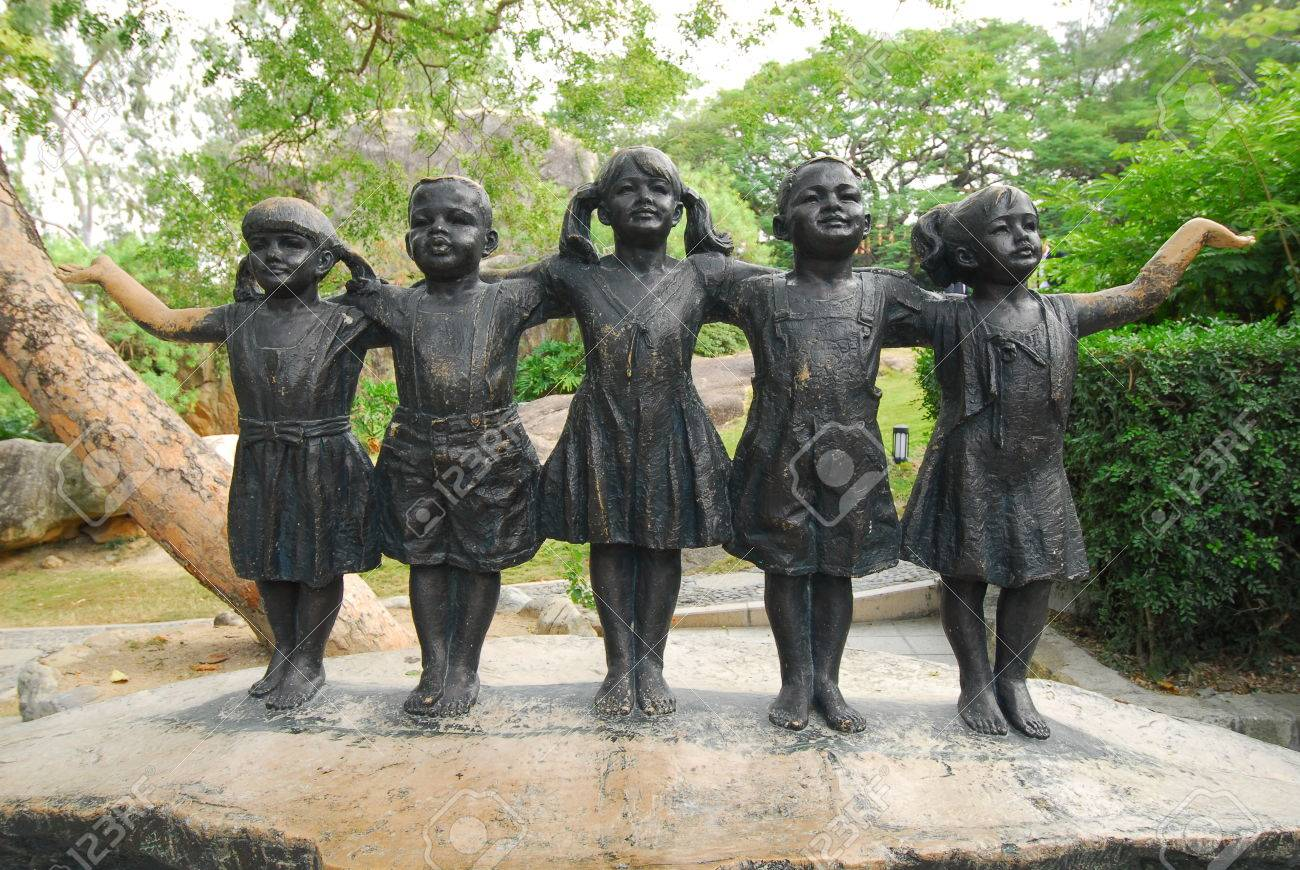person-like: (893, 175, 1264, 744), (50, 192, 395, 715), (497, 140, 767, 724), (716, 150, 931, 738), (340, 172, 558, 723)
